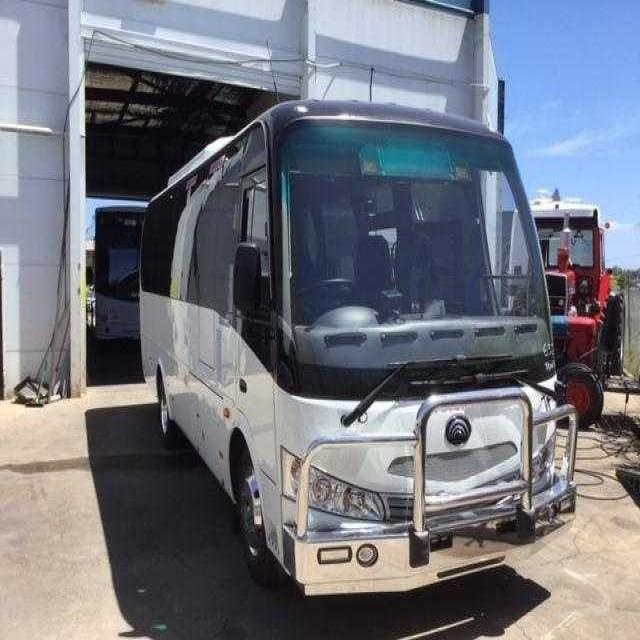Bus: (136, 90, 579, 614)
